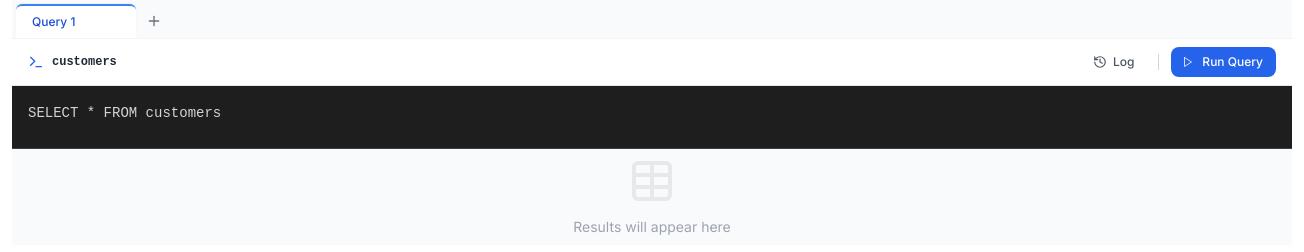
Scenario: SQL Studio results (UI) › shows error banner on query failure
The width and height of the screenshot is (1304, 252).
Click the button "Run Query" at (1224, 62), box top-left (1171, 47), bottom-right (1276, 77)
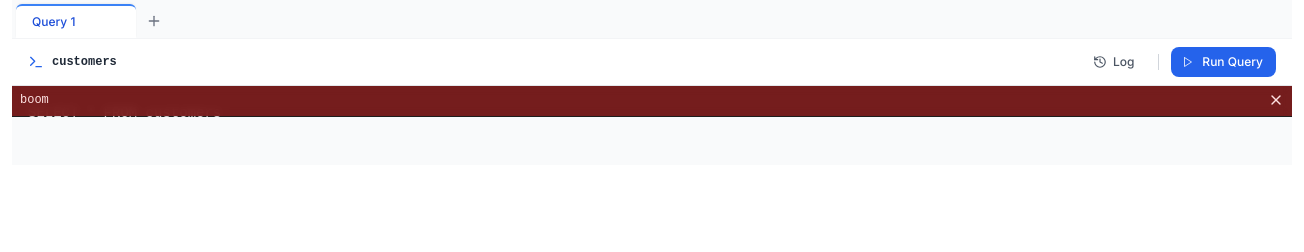
Result: the text "boom" is shown at top-left (20, 92), bottom-right (49, 108)
